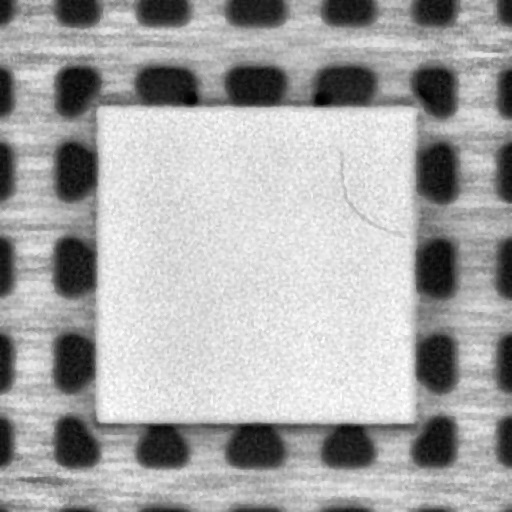DIE_CRACK: (334, 150, 401, 239)
